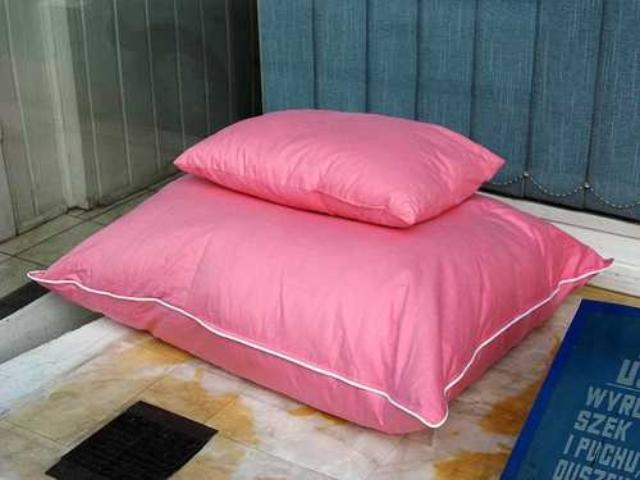pillow: (26, 171, 614, 435), (172, 106, 506, 228)
